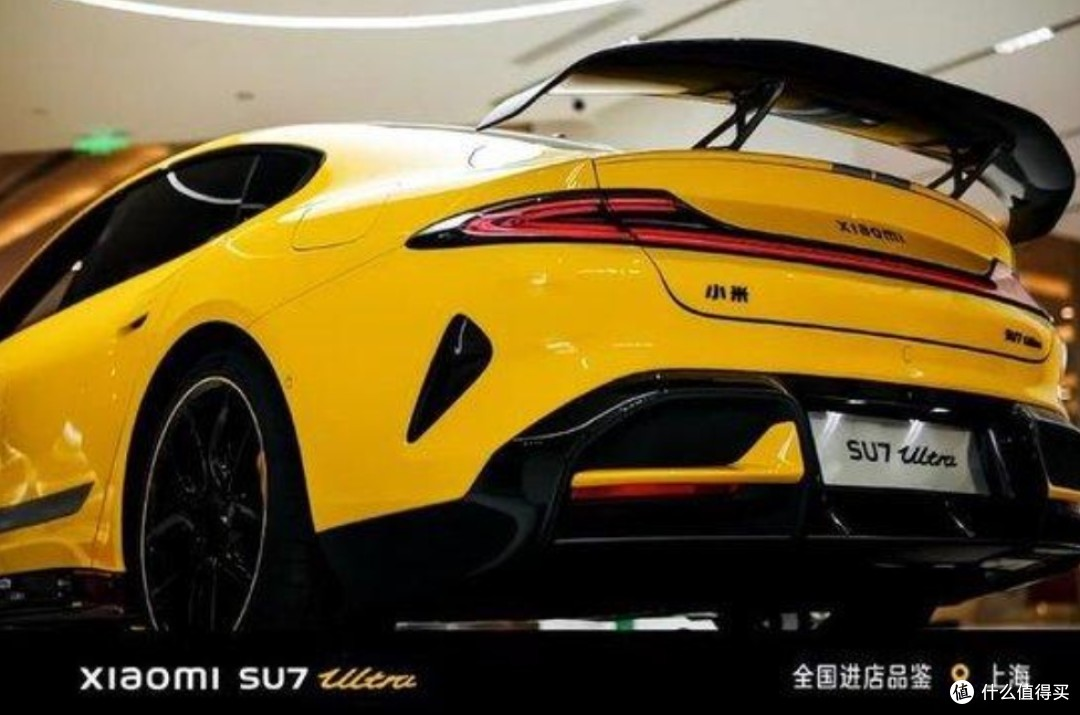su7: (2, 35, 1080, 632)
